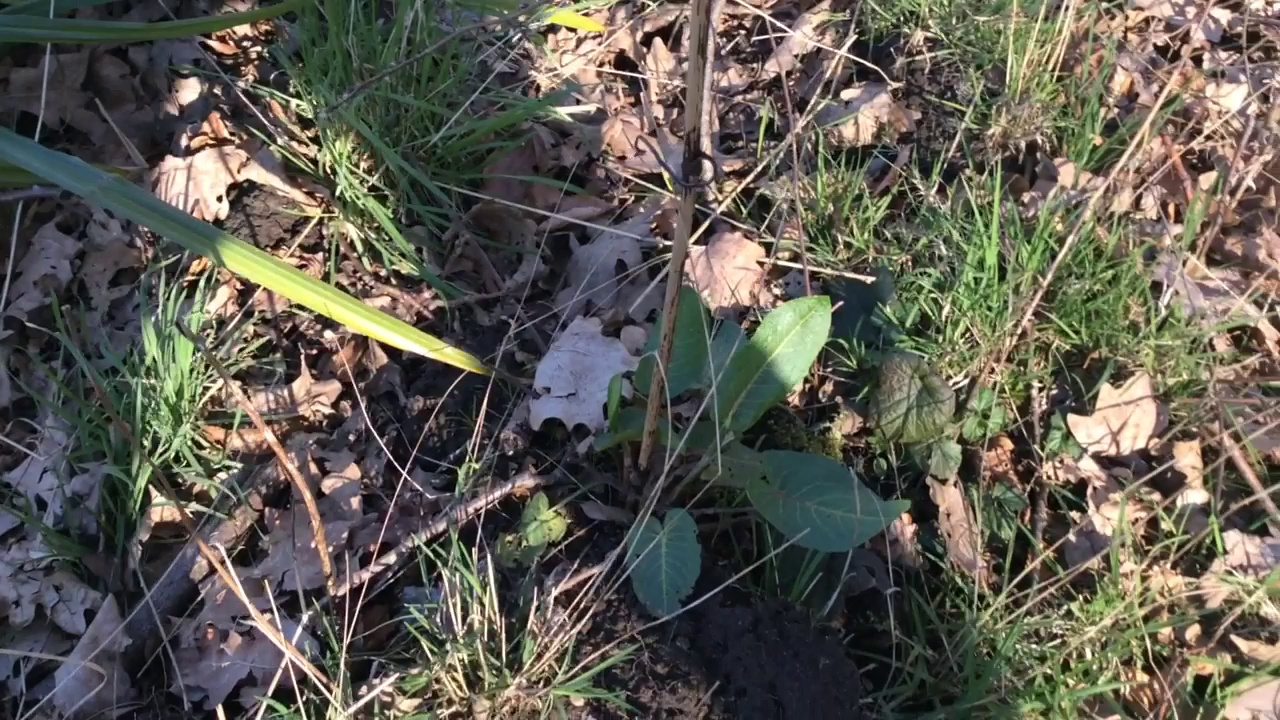rumex: (513, 283, 911, 621)
